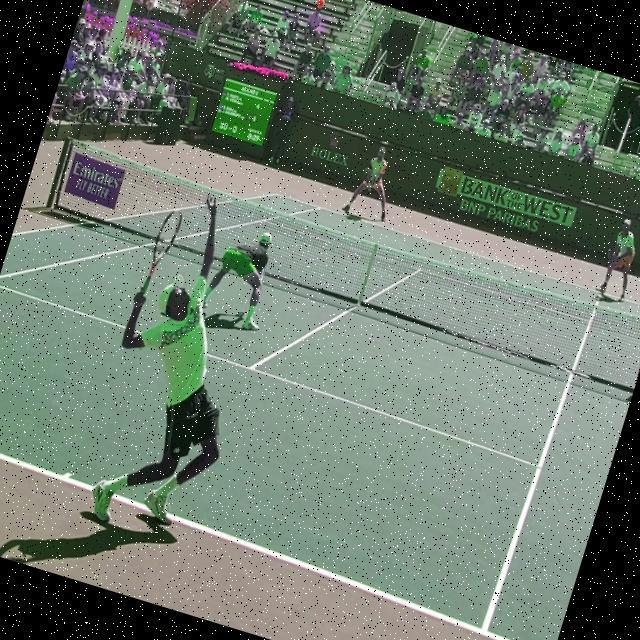court: (0, 184, 639, 640)
net: (45, 129, 640, 395)
player: (56, 175, 298, 557)
